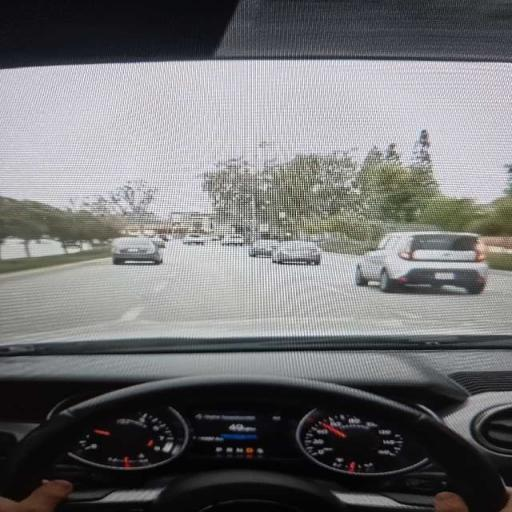car: (356, 232, 488, 294), (112, 237, 163, 264), (272, 241, 321, 265), (249, 240, 278, 256), (221, 235, 244, 246), (183, 234, 206, 244), (152, 236, 165, 248)
lane: (0, 242, 511, 342)
person: (0, 481, 72, 511), (435, 492, 468, 511)
